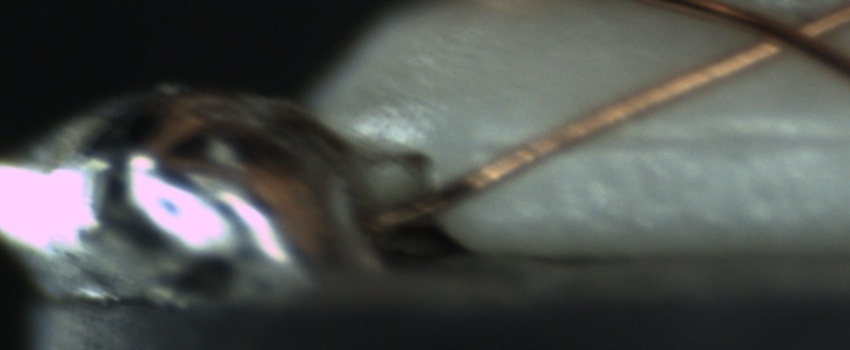CL: (738, 2, 839, 66)
DL: (510, 107, 844, 171)
